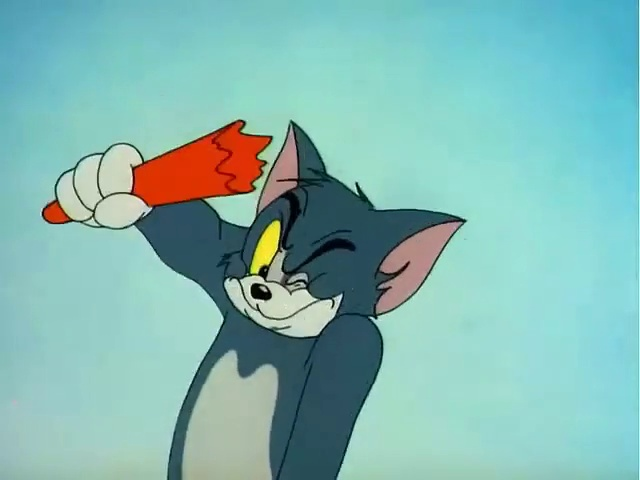tom: (53, 74, 456, 479)
